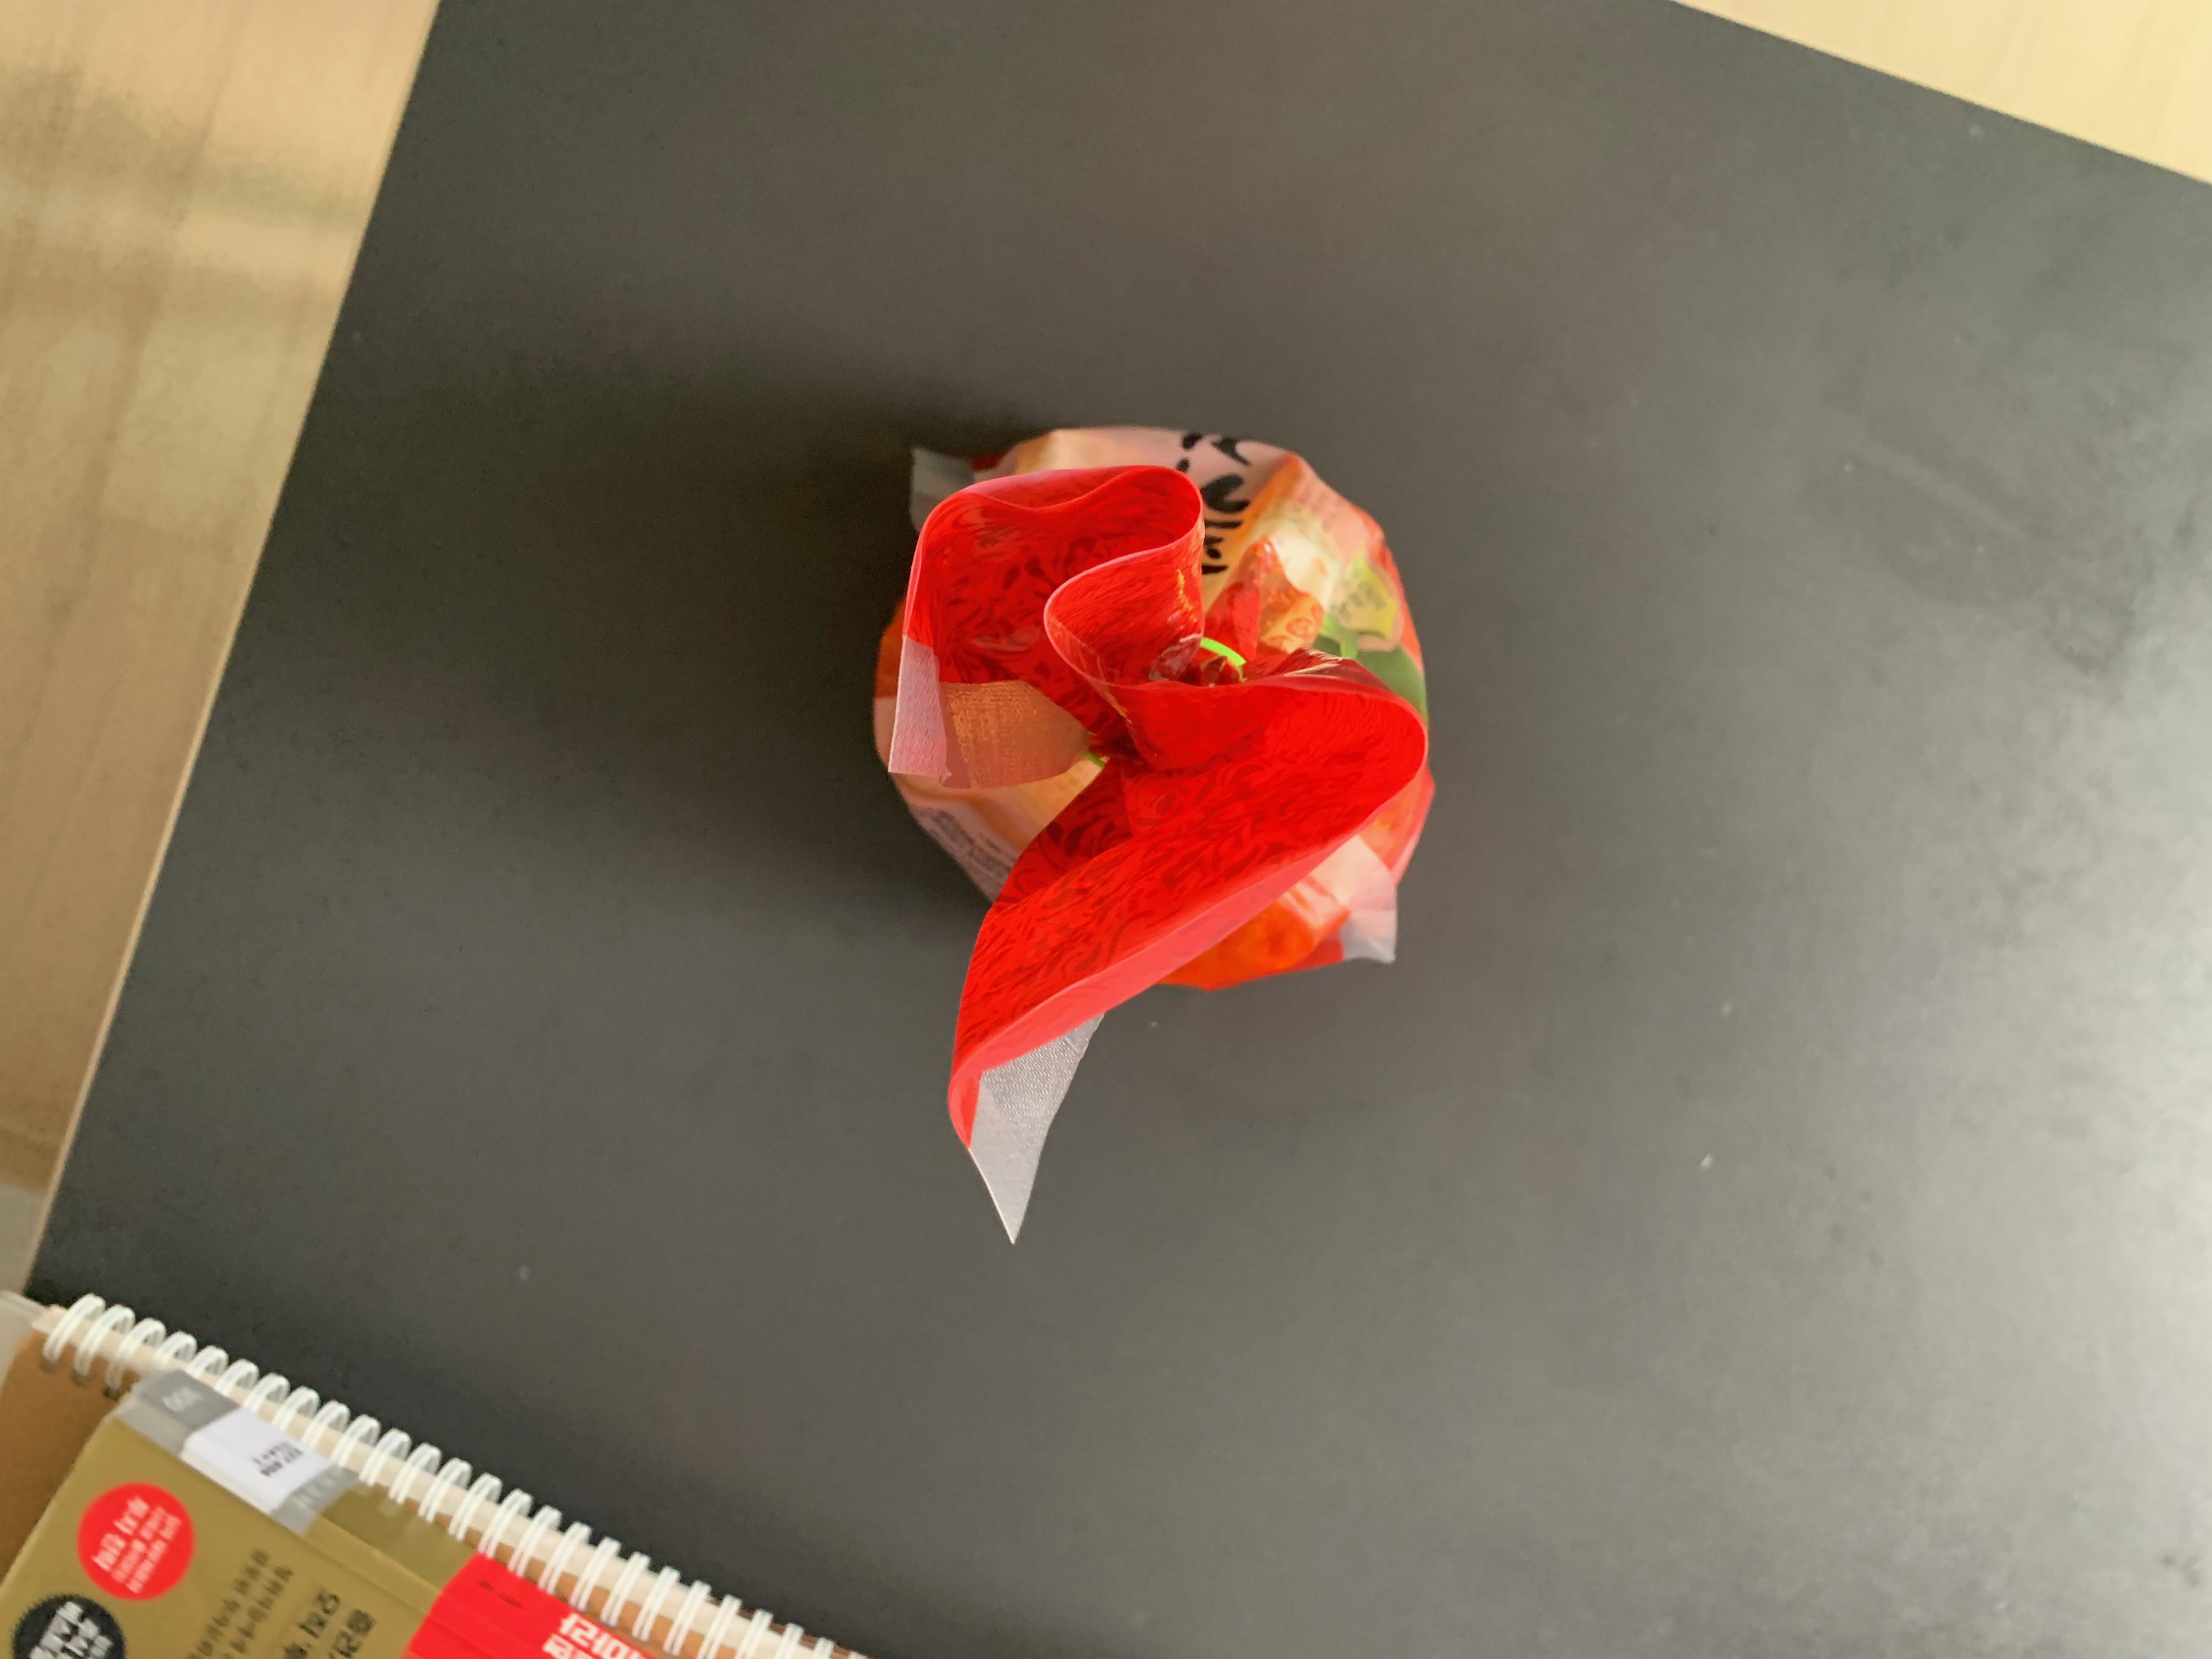kimchi: (869, 422, 1433, 1093)
